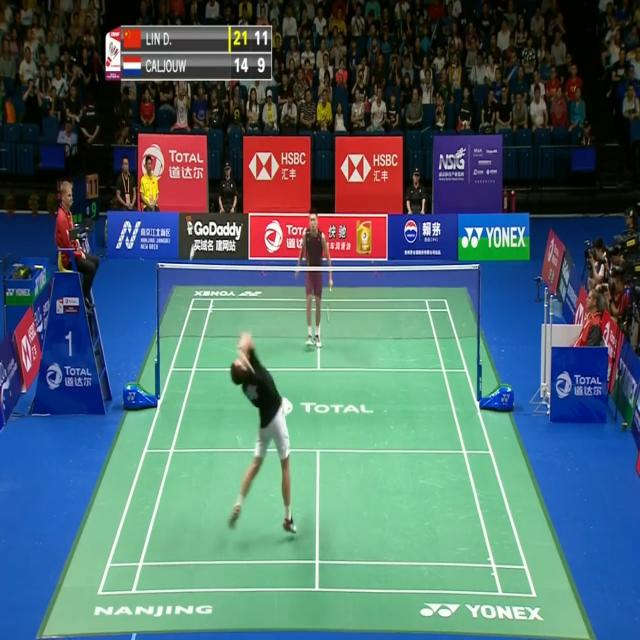Player1: (223, 335, 303, 541)
Player2: (294, 207, 335, 357)
